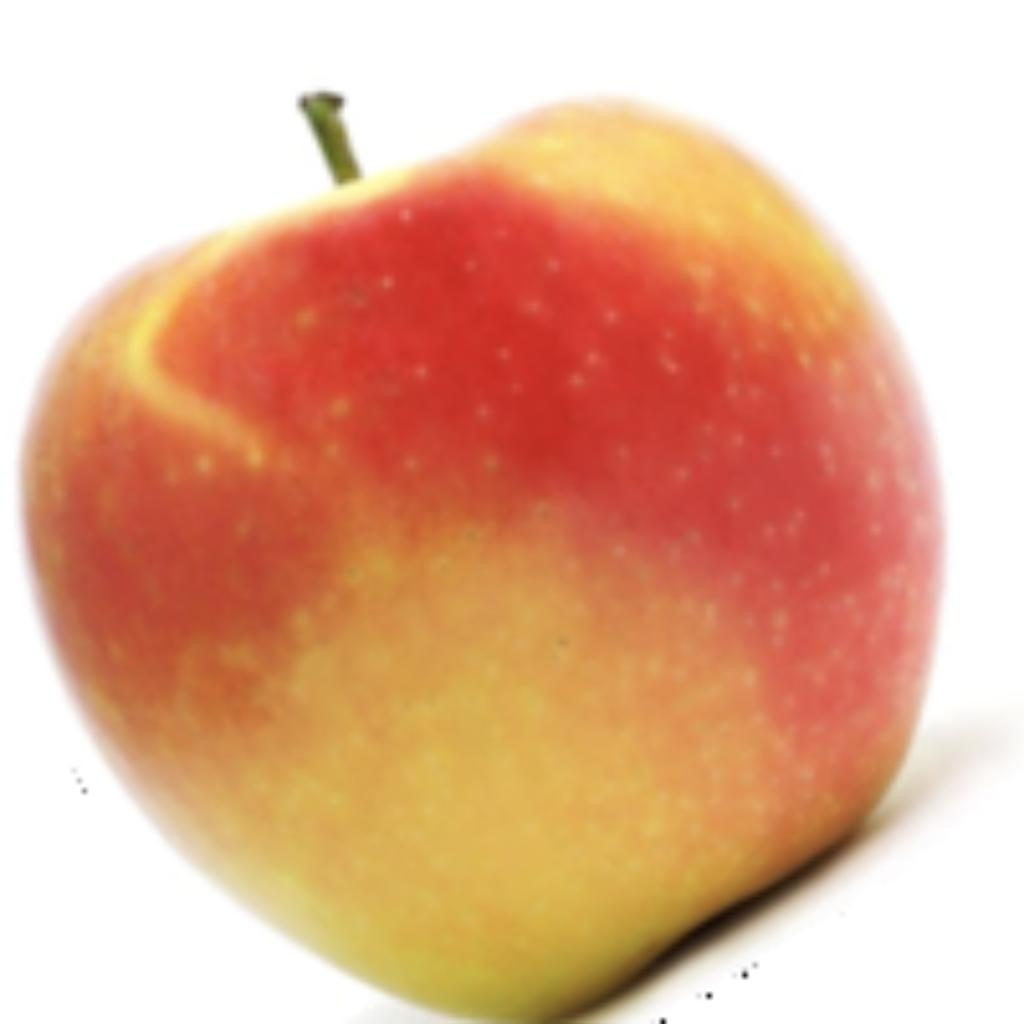apple: (10, 82, 1014, 1019)
